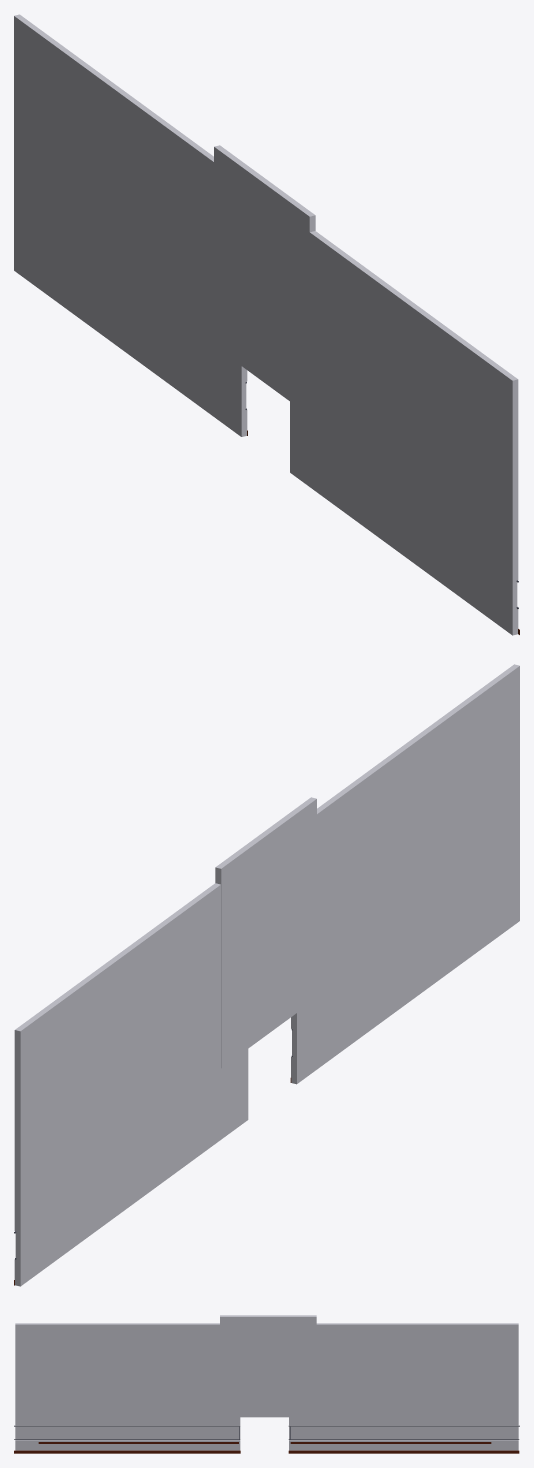
Rendered from Front Wall.obj.
The picture shows the model from 3 angles, top to bottom: view 1: azimuth 30°, elevation 25°; view 2: azimuth 150°, elevation 25°; view 3: azimuth 270°, elevation 25°; orthographic projection. The views are drawn at different scales.
Parts seen in each view (by area): view 1: Union1, Union2, Part13; view 2: Union2, Union1, Part13; view 3: Union1, Union2, Part13, Part10, Part4, Part12, Part6, Part9, Part8, Part2, Part3.
Boxes of the visible parts, bbox=[...] form: Union1: bbox=[290, 231, 518, 635]; Union2: bbox=[14, 14, 247, 436]; Part13: bbox=[214, 145, 315, 415]; Union2: bbox=[14, 883, 248, 1286]; Union1: bbox=[291, 664, 519, 1084]; Part13: bbox=[215, 797, 316, 1068]; Union1: bbox=[15, 1323, 240, 1450]; Union2: bbox=[289, 1323, 518, 1450]; Part13: bbox=[220, 1315, 316, 1417]; Part10: bbox=[288, 1450, 519, 1453]; Part4: bbox=[14, 1450, 240, 1453]; Part12: bbox=[290, 1442, 491, 1443]; Part6: bbox=[38, 1442, 238, 1443]; Part9: bbox=[288, 1425, 519, 1426]; Part8: bbox=[288, 1439, 519, 1439]; Part2: bbox=[14, 1439, 240, 1439]; Part3: bbox=[14, 1425, 239, 1426].
Size of the model in its own units: 0.9362 by 35.87 by 120.
